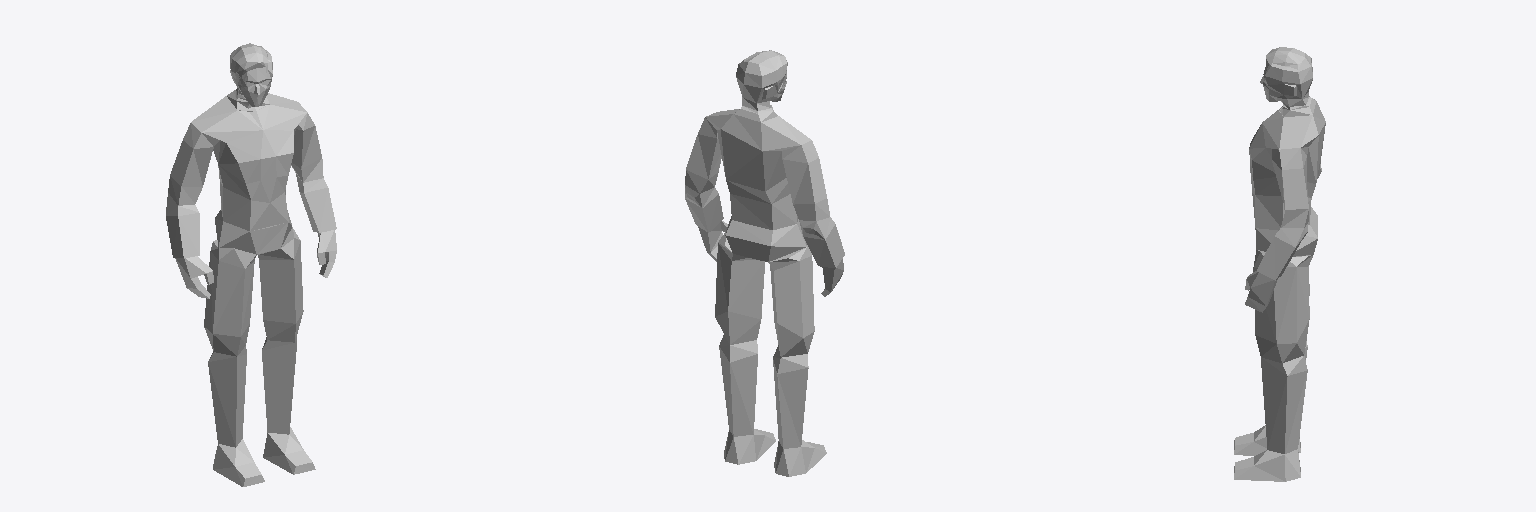
File: Manuel111.obj
The picture shows the model from 3 angles: view 1: azimuth 30°, elevation 25°; view 2: azimuth 150°, elevation 25°; view 3: azimuth 270°, elevation 25°; orthographic projection.
Parts seen in each view (by area): view 1: leon; view 2: leon; view 3: leon.
Boxes of the visible parts, <box> form: leon: <box>166,43,336,486</box>; leon: <box>685,50,844,476</box>; leon: <box>1234,47,1325,481</box>.
Bounding box in the file's own units: 4.68 × 12.19 × 2.47.